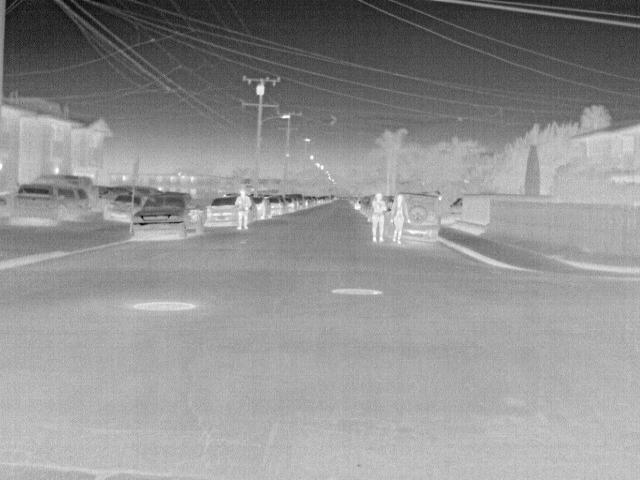car: (129, 192, 206, 241), (27, 175, 98, 212), (12, 186, 60, 226), (405, 195, 441, 241), (102, 193, 146, 222), (203, 195, 235, 226), (58, 188, 87, 220), (267, 196, 285, 216), (254, 197, 269, 219), (285, 193, 304, 210), (282, 197, 296, 215)
person: (367, 191, 389, 244), (387, 192, 408, 242), (235, 189, 252, 229)
